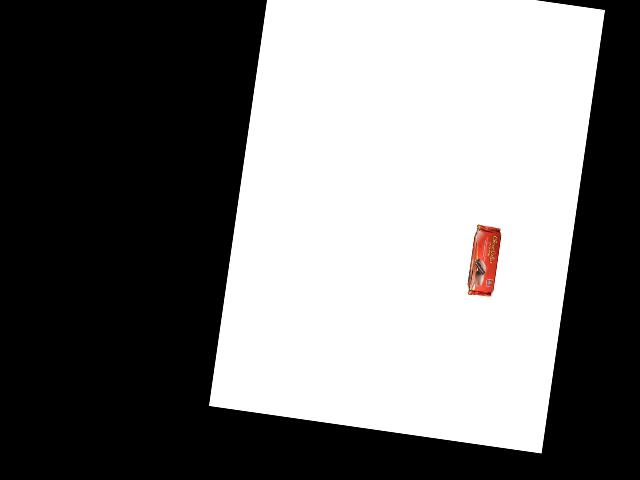chocolate: (459, 222, 502, 299)
